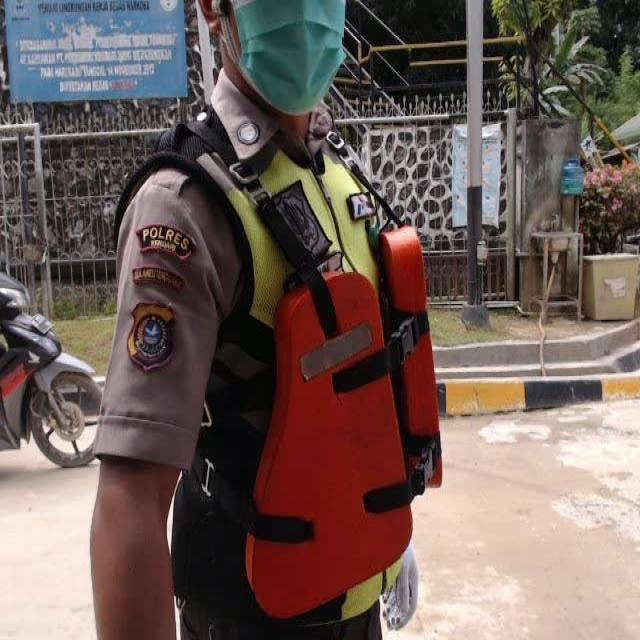Vest: (226, 224, 454, 600)
